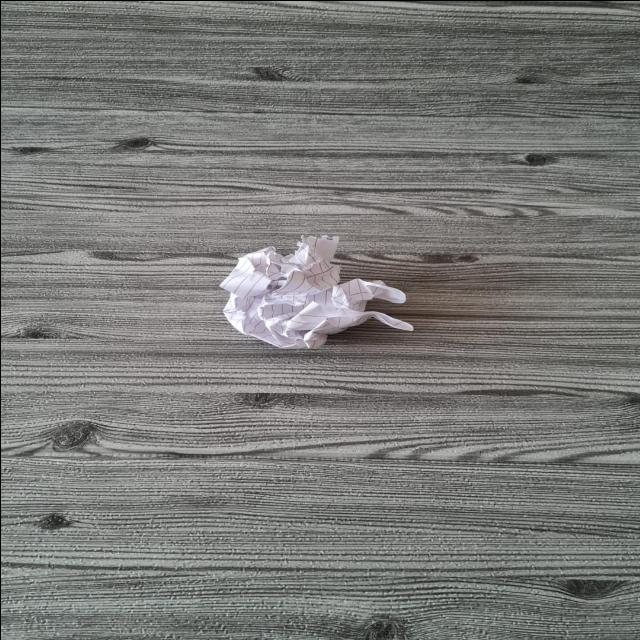kertas: (218, 240, 410, 346)
